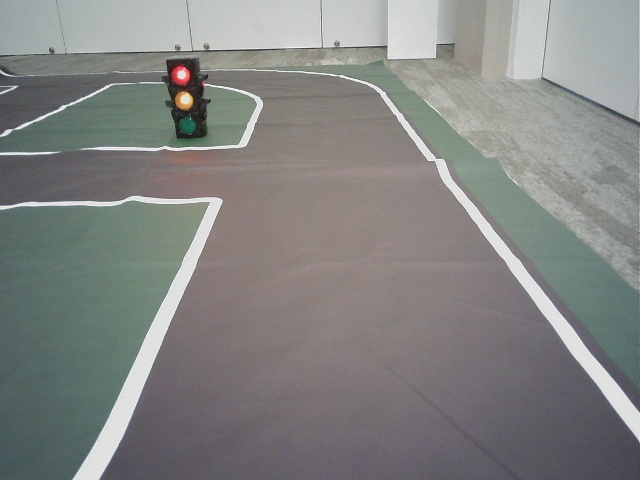red: (167, 61, 200, 135)
